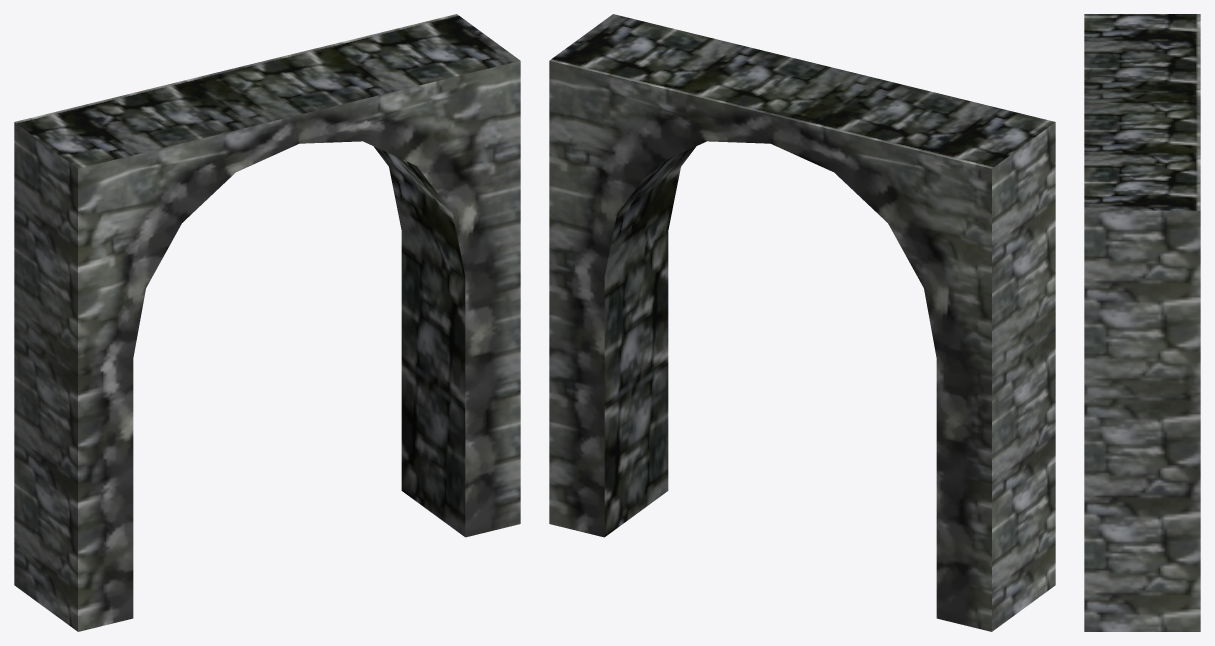
Rendered from arch.obj.
3 views of the same model, side by side, from view 1: azimuth 30°, elevation 25°; view 2: azimuth 150°, elevation 25°; view 3: azimuth 270°, elevation 25° (orthographic). The views are drawn at different scales.
Parts seen in each view (by area): view 1: arch_door_open; view 2: arch_door_open; view 3: arch_door_open.
Boxes of the visible parts, <box> form: arch_door_open: <box>14,14,520,631</box>; arch_door_open: <box>549,14,1055,631</box>; arch_door_open: <box>1084,14,1200,631</box>.
Size of the model in its own units: 2 by 2 by 0.5.
1 material, 1 textured.
